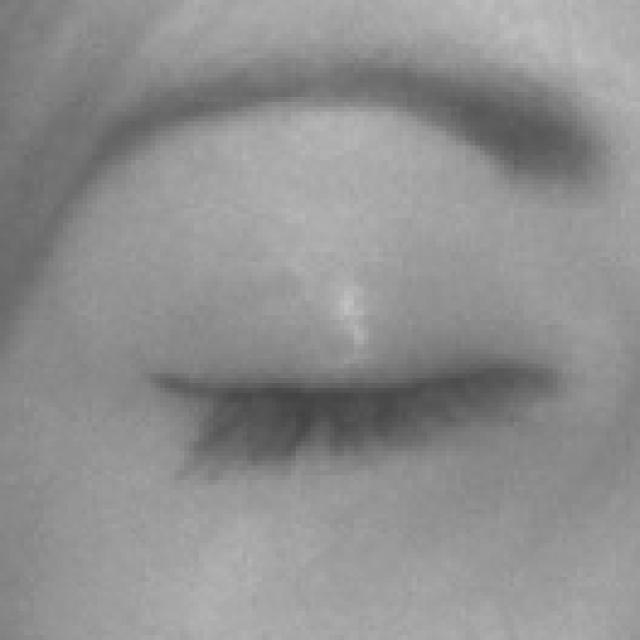Eyeclosed: (140, 226, 562, 570)
